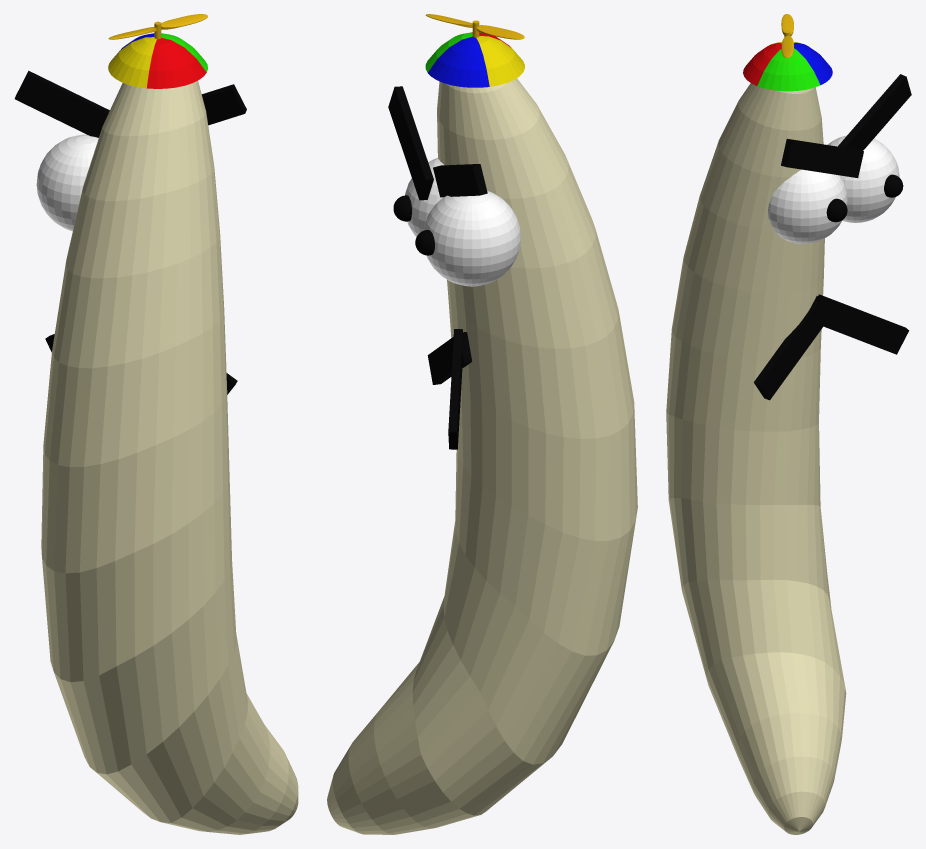
Rendered from banana_villian.glb.
The picture shows the model from 3 angles, left to right: view 1: azimuth 30°, elevation 25°; view 2: azimuth 150°, elevation 25°; view 3: azimuth 270°, elevation 25°; orthographic projection. The views are drawn at different scales.
Visible parts, largest first — view 1: Hat, Propeller; view 2: Hat, Propeller; view 3: Hat, Propeller.
Part boxes in pixels (x1,y1,x2,y2): Hat: (14, 33, 298, 834); Propeller: (108, 14, 207, 39); Hat: (327, 32, 637, 834); Propeller: (425, 14, 524, 39); Hat: (666, 42, 911, 834); Propeller: (781, 14, 793, 57).
Bounding box in the file's own units: 0.6592 × 1.94 × 0.5758.
8 materials, 1 textured.
